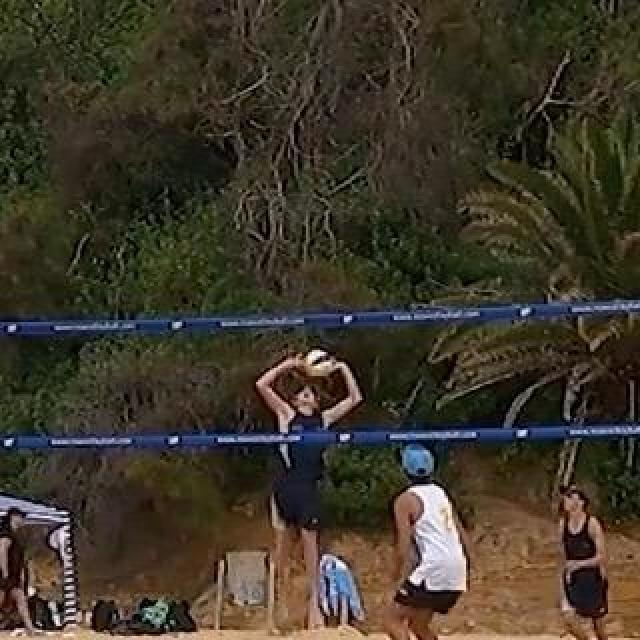volleyball: (305, 349, 331, 379)
